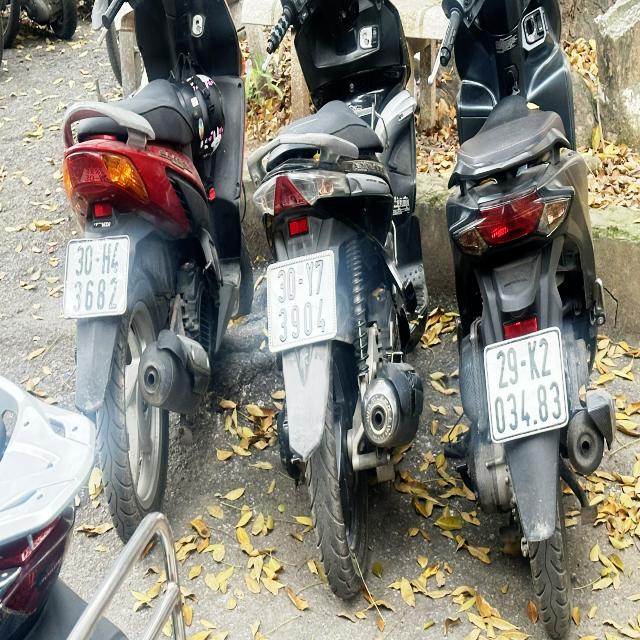license_plate: (485, 326, 569, 441), (268, 250, 334, 352), (64, 241, 127, 318)
